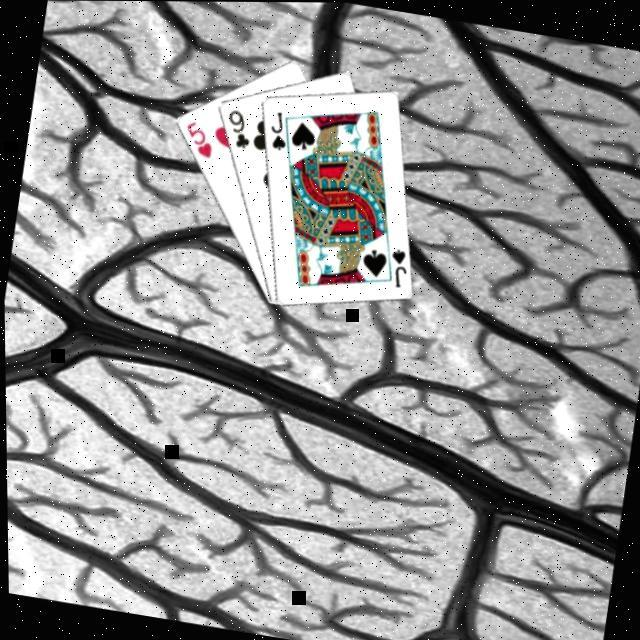5H: (176, 118, 217, 162)
9C: (218, 108, 255, 154)
JS: (260, 108, 291, 155), (380, 245, 410, 292)
